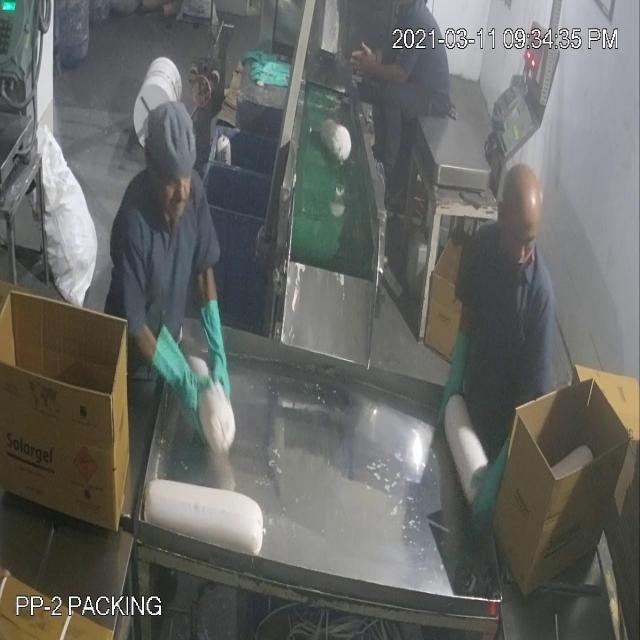No_Gloves: (44, 65, 378, 378)
